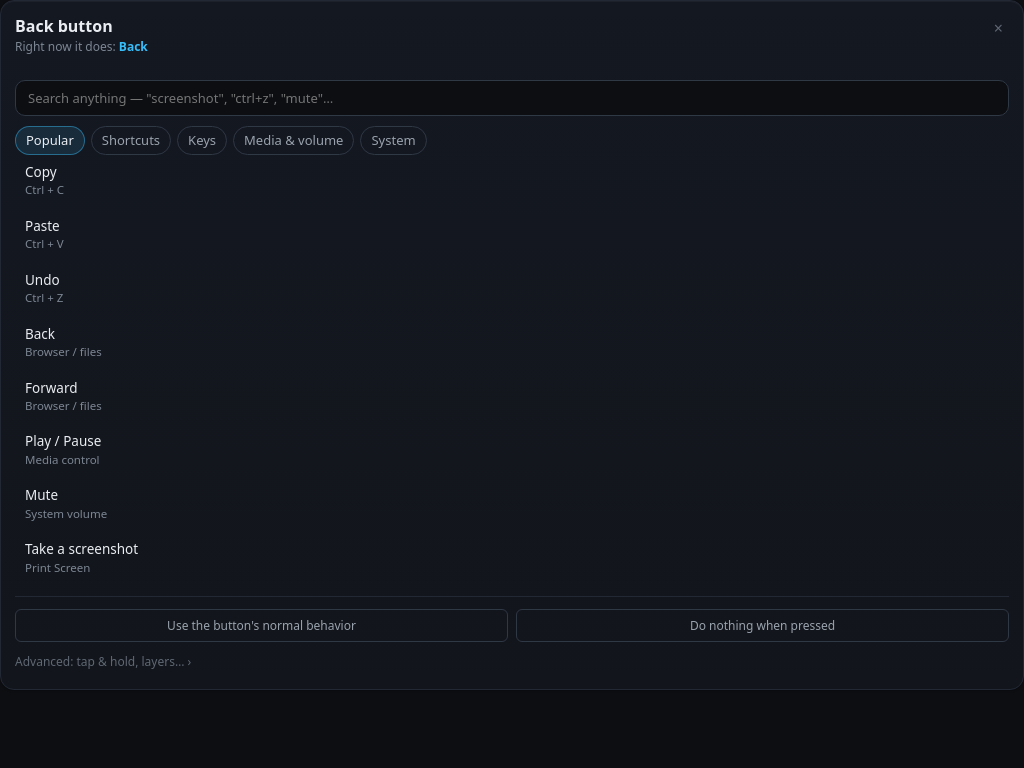
Test: AssignPanel › searching 'zzzz' shows no-matches message and press-to-set row is present
Type "zzzz" into the field with placeholder "Search anything — \"screenshot\", \"ctrl+z\", \"mute\"…".
click(512, 98); type("zzzz")  # box [28,89,996,107]
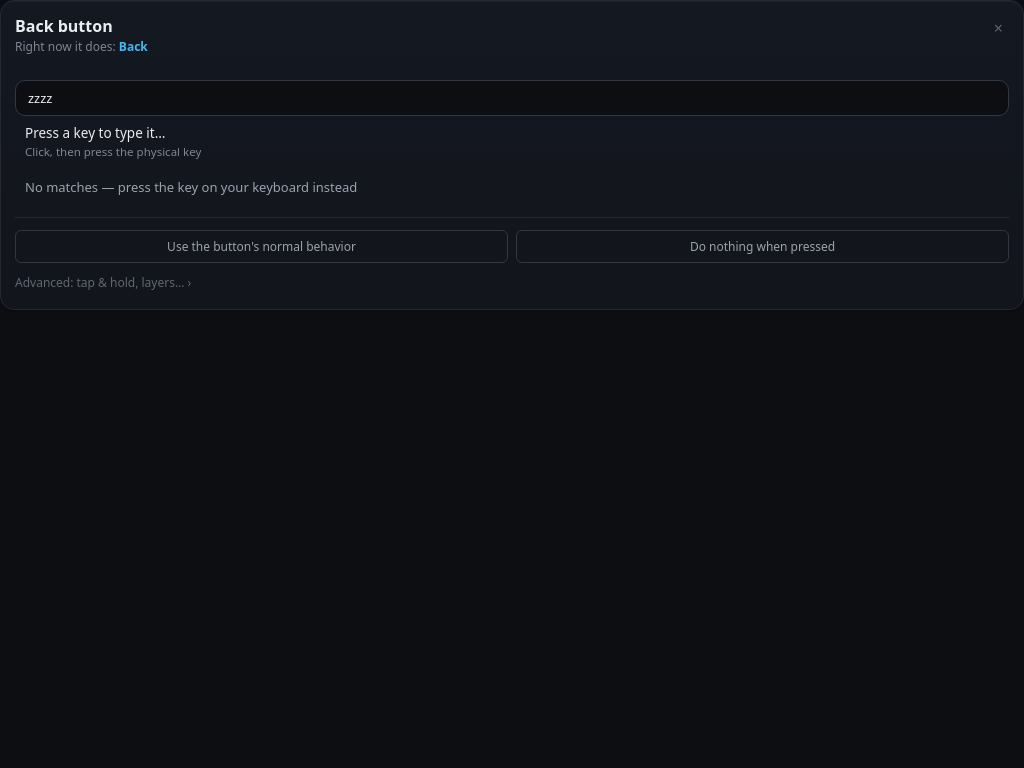
Expected: the text "No matches — press the key on your keyboard instead" is shown, [25,178,357,196]
Expected: the button "Press a key to type it… Click, then press the physical key" is shown, [15,116,1009,168]
